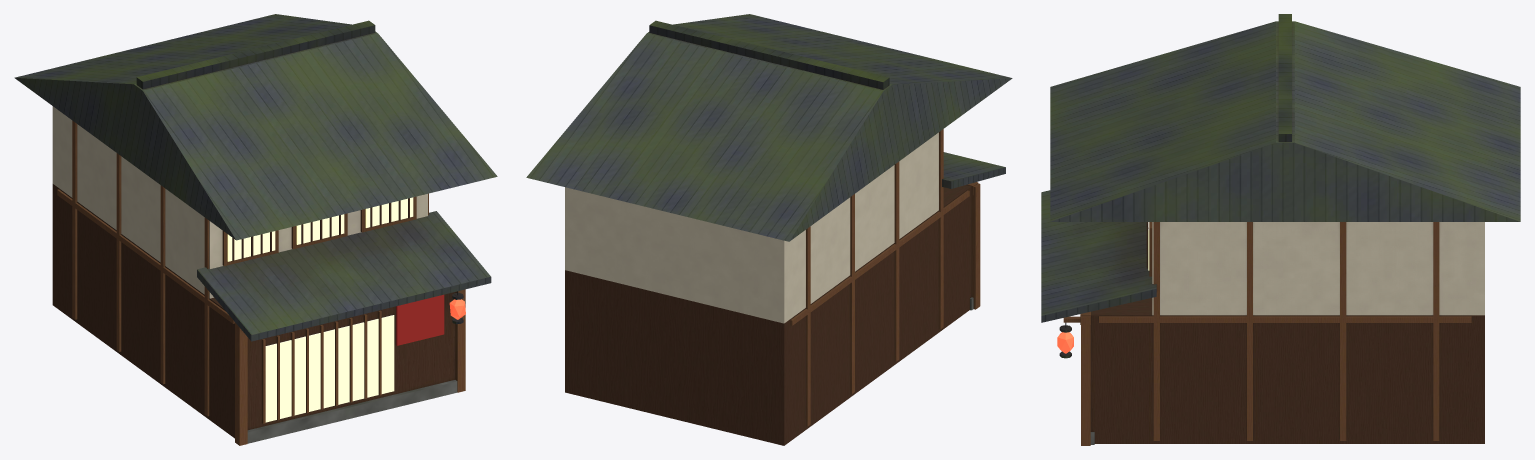
File: machiya_2_tex.glb
The picture shows the model from 3 angles, left to right: view 1: azimuth 30°, elevation 25°; view 2: azimuth 150°, elevation 25°; view 3: azimuth 270°, elevation 25°; orthographic projection. The views are drawn at different scales.
Parts seen in each view (by area): view 1: machiya_2; view 2: machiya_2; view 3: machiya_2.
Part boxes in pixels (x1=…): machiya_2: x1=14, y1=14, x2=497, y2=445; machiya_2: x1=526, y1=14, x2=1012, y2=445; machiya_2: x1=1041, y1=14, x2=1520, y2=445.
Size of the model in its own units: 7.2 by 7.8 by 10.8.
9 materials, 6 textured.
